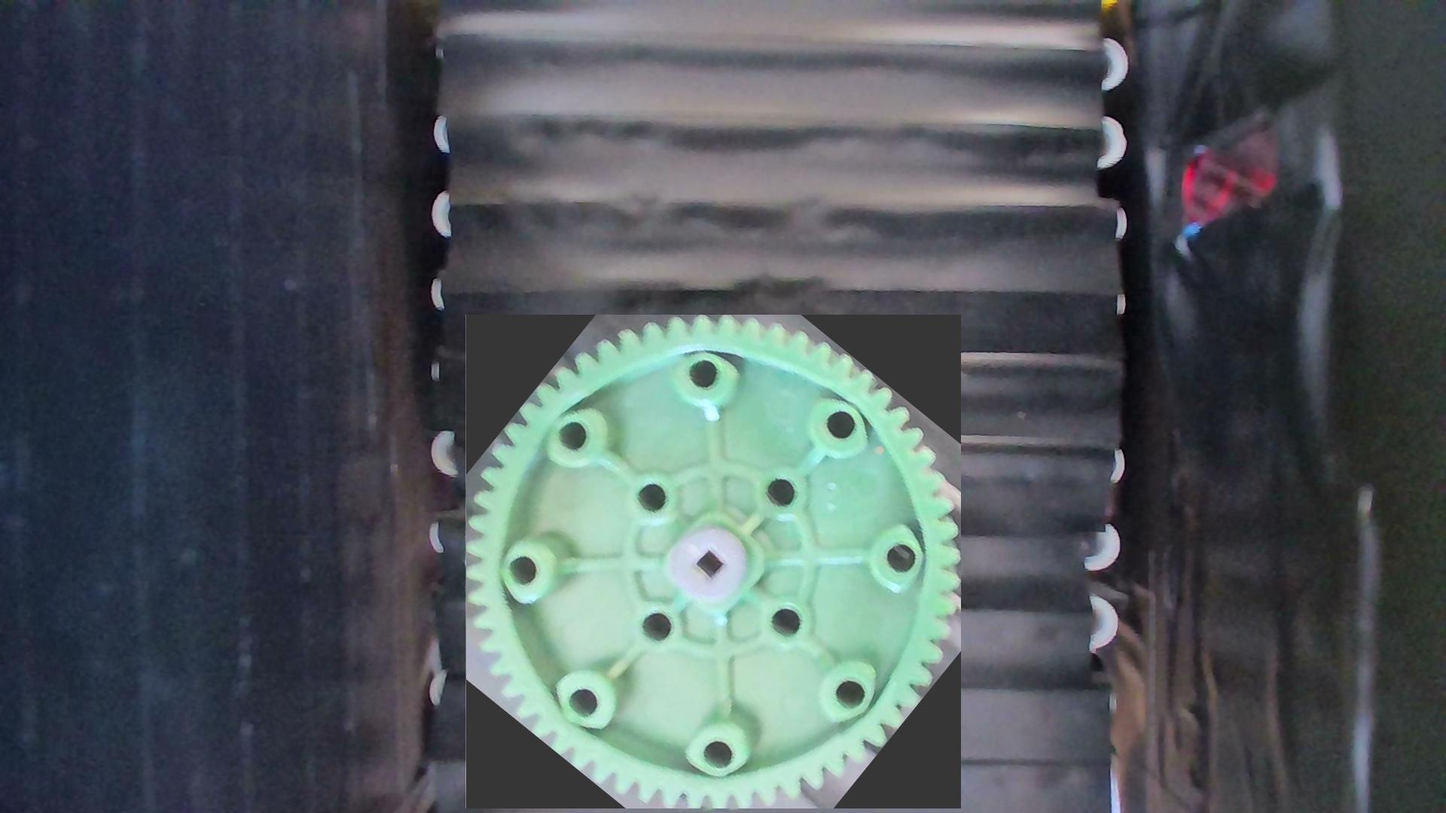gear: (465, 315, 960, 809)
